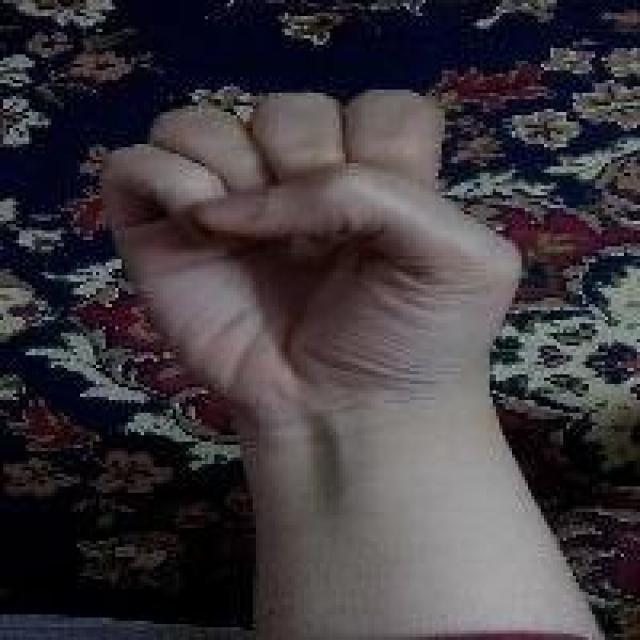E: (98, 74, 526, 442)
